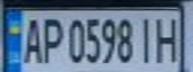0: (63, 15, 84, 64)
5: (81, 15, 103, 64)
8: (115, 15, 136, 64)
9: (100, 16, 118, 64)
A: (18, 13, 45, 64)
H: (151, 12, 184, 63)
I: (136, 15, 157, 64)
P: (39, 15, 66, 64)
